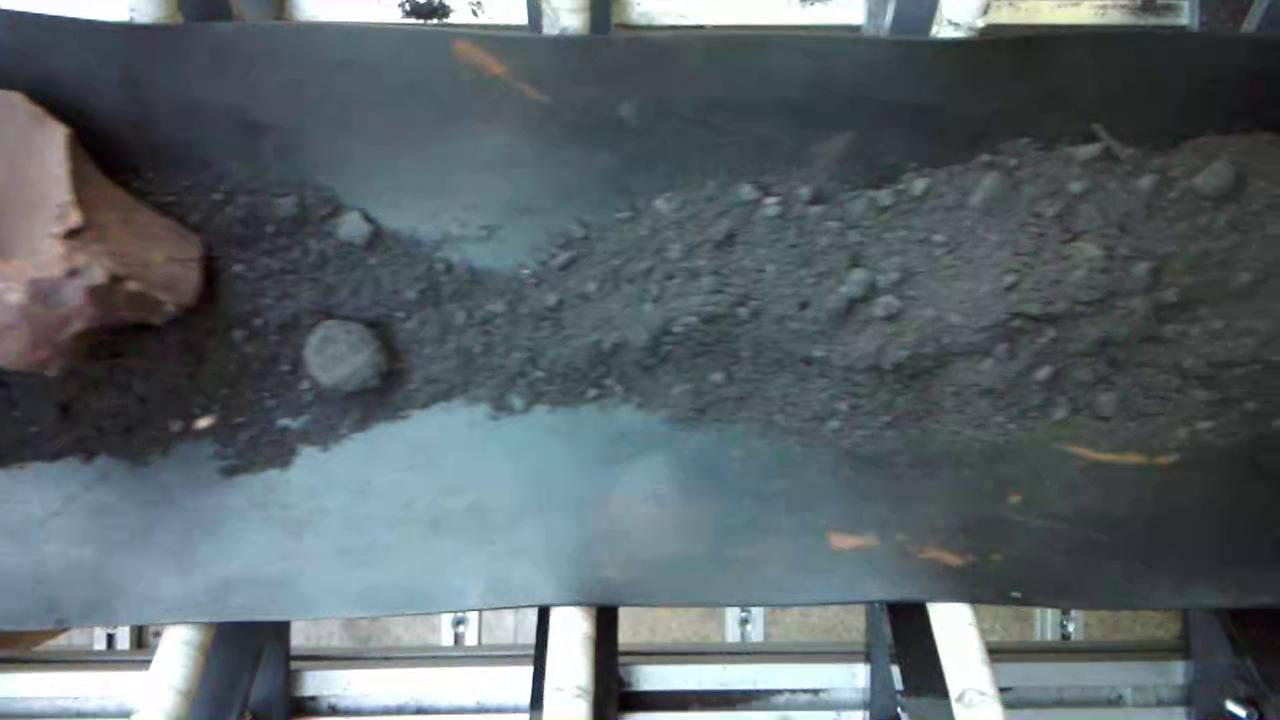conveyor: (17, 47, 1271, 588)
